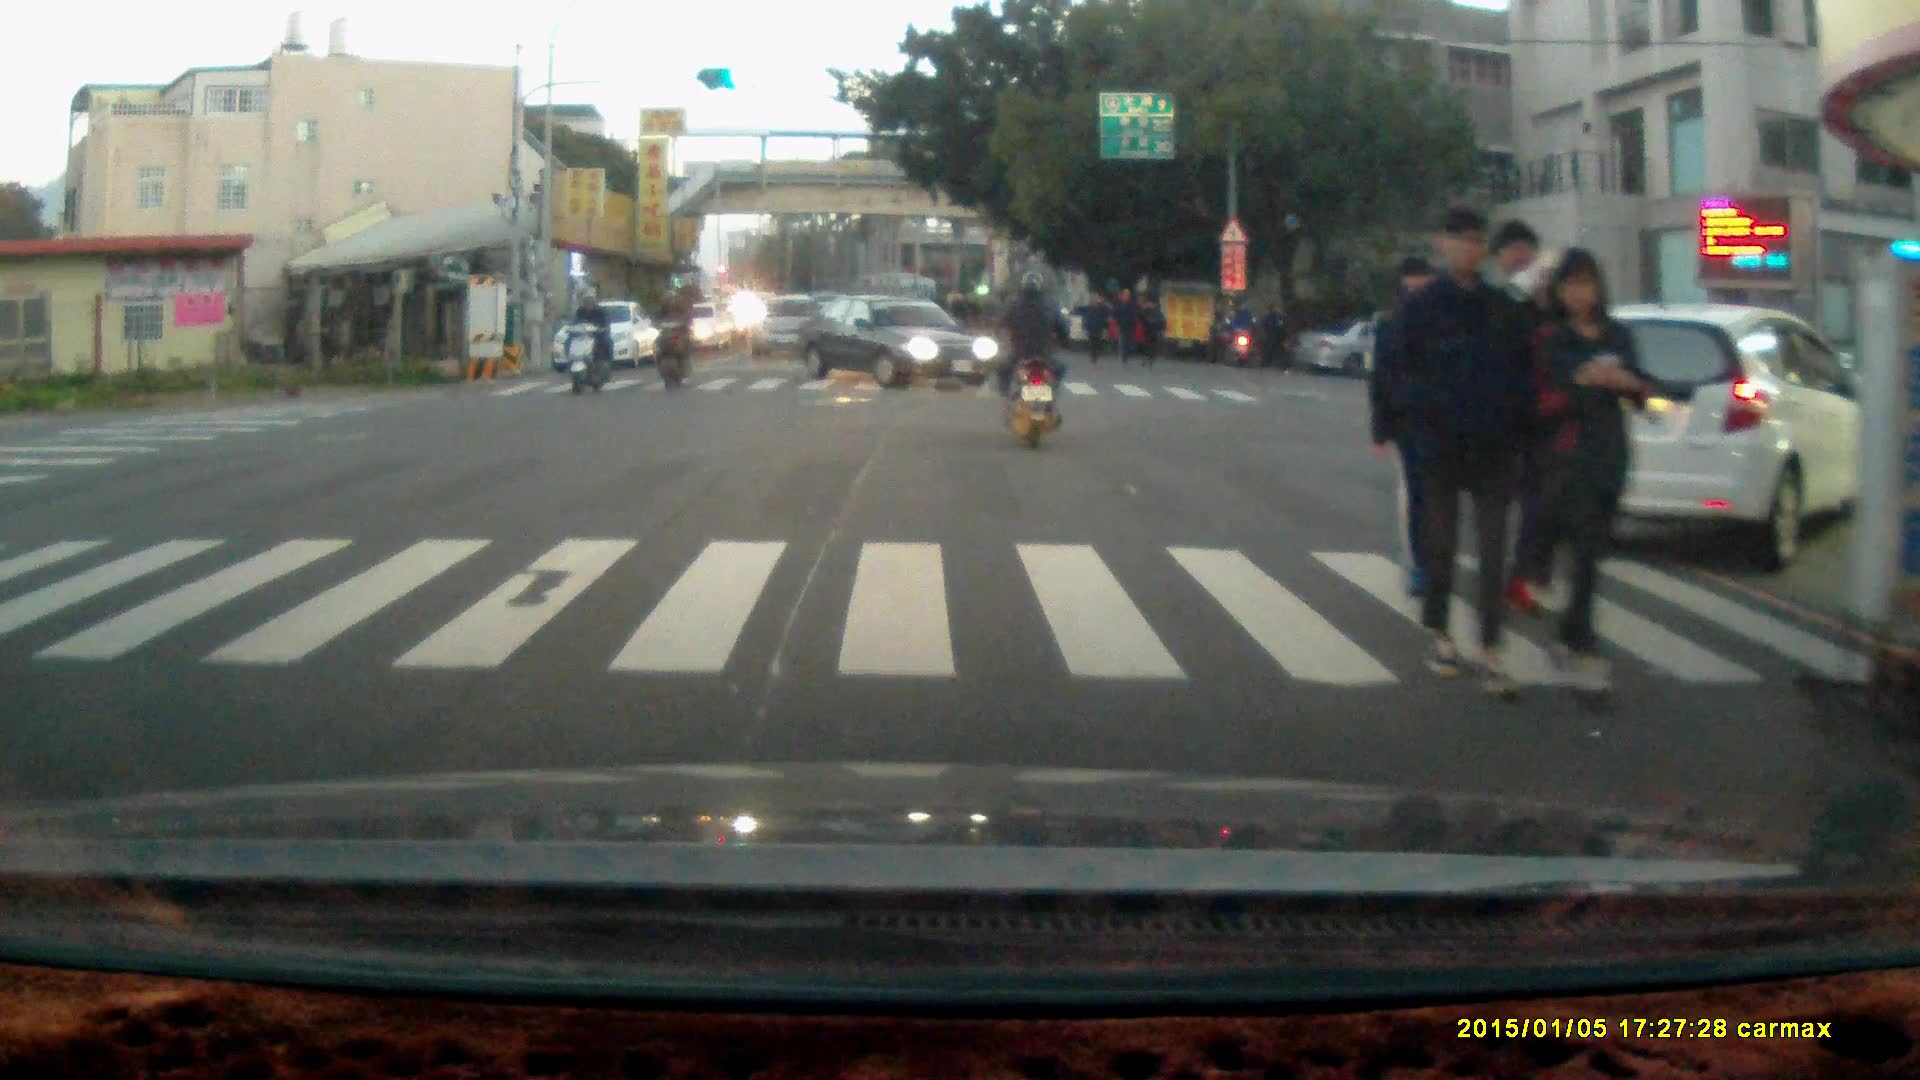pedestrian: (1382, 202, 1539, 702), (1528, 243, 1647, 701), (1108, 281, 1138, 368), (1133, 291, 1165, 369), (1077, 288, 1106, 368), (1255, 295, 1286, 372)
rider: (997, 266, 1069, 450), (563, 284, 613, 396), (645, 284, 695, 390), (1219, 299, 1258, 363)
vehicle: (1532, 299, 1904, 584), (791, 289, 1003, 388), (555, 301, 658, 371), (748, 294, 840, 364)
